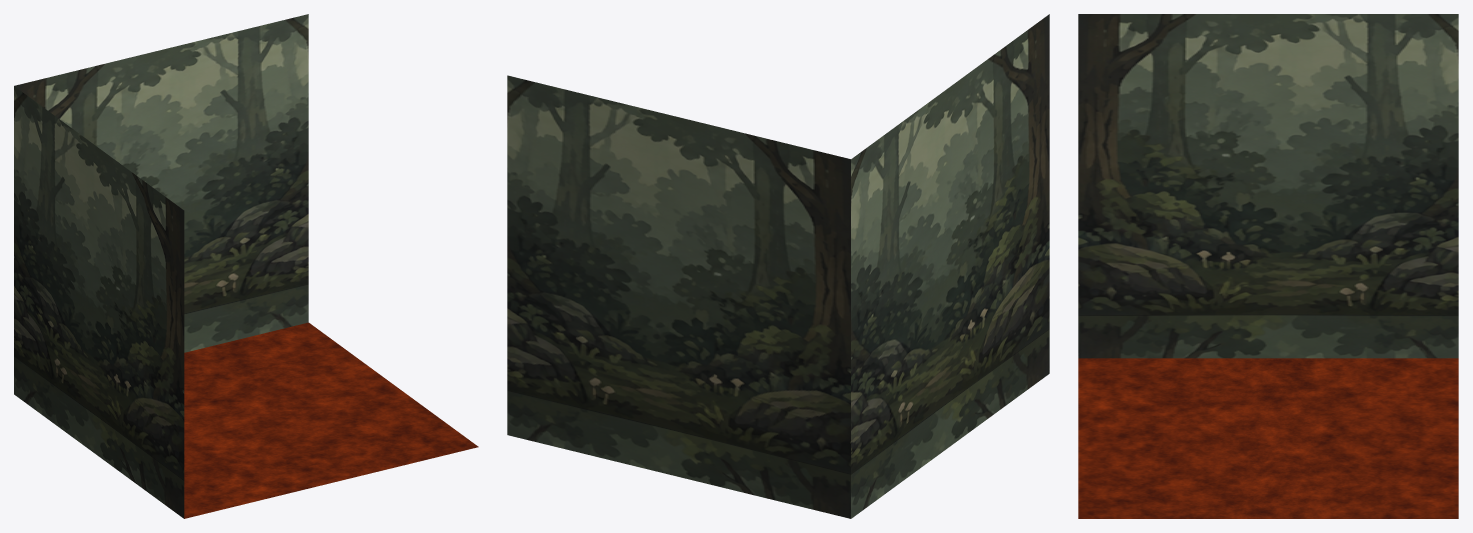
The model's file is forest cube empty.glb.
3 renders of one model, left to right at view 1: azimuth 30°, elevation 25°; view 2: azimuth 150°, elevation 25°; view 3: azimuth 270°, elevation 25°, orthographic. The views are drawn at different scales.
Visible parts, largest first — view 1: wall; view 2: wall; view 3: wall.
Part boxes in pixels (left/top/right/bottom): wall: left=14, top=14, right=478, bottom=518; wall: left=507, top=14, right=1049, bottom=518; wall: left=1078, top=14, right=1458, bottom=518.
Bounding box in the file's own units: 2 × 2 × 2.
2 materials, 2 textured.
